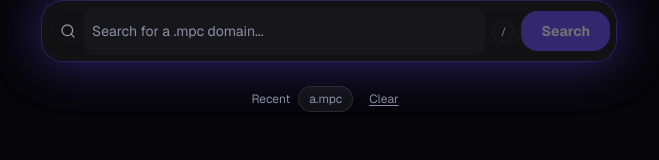
DomainSearch › Validation › shows validation error for invalid domain (special chars)
The width and height of the screenshot is (659, 160).
Type "invalid@domain" into the field with placeholder "Search for a .mpc domain...". click: [285, 31]
box: left=84, top=7, right=486, bottom=55
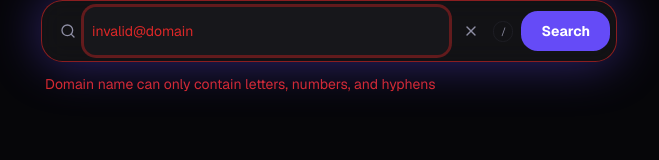
Expected: the text "Domain name can only contain letters, numbers, and hyphens" is shown, left=45, top=75, right=436, bottom=93
